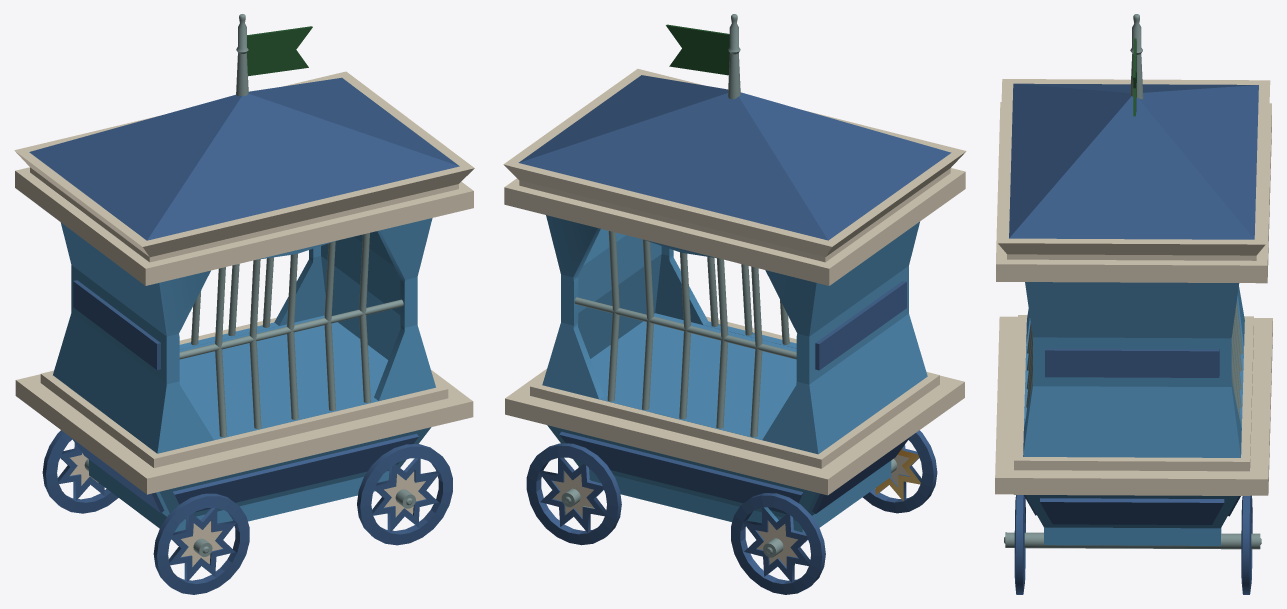
The model's file is F_Trailer_01.fbx.
3 views of the same model, side by side, from view 1: azimuth 30°, elevation 25°; view 2: azimuth 150°, elevation 25°; view 3: azimuth 270°, elevation 25° (orthographic). The views are drawn at different scales.
Parts seen in each view (by area): view 1: F_Trailer_01; view 2: F_Trailer_01; view 3: F_Trailer_01.
Boxes of the visible parts, left/top/right/bottom form: F_Trailer_01: left=14, top=14, right=474, bottom=594; F_Trailer_01: left=503, top=14, right=966, bottom=594; F_Trailer_01: left=995, top=14, right=1272, bottom=594.
Bounding box in the file's own units: 354 × 520 × 251.
1 material, 1 textured.
